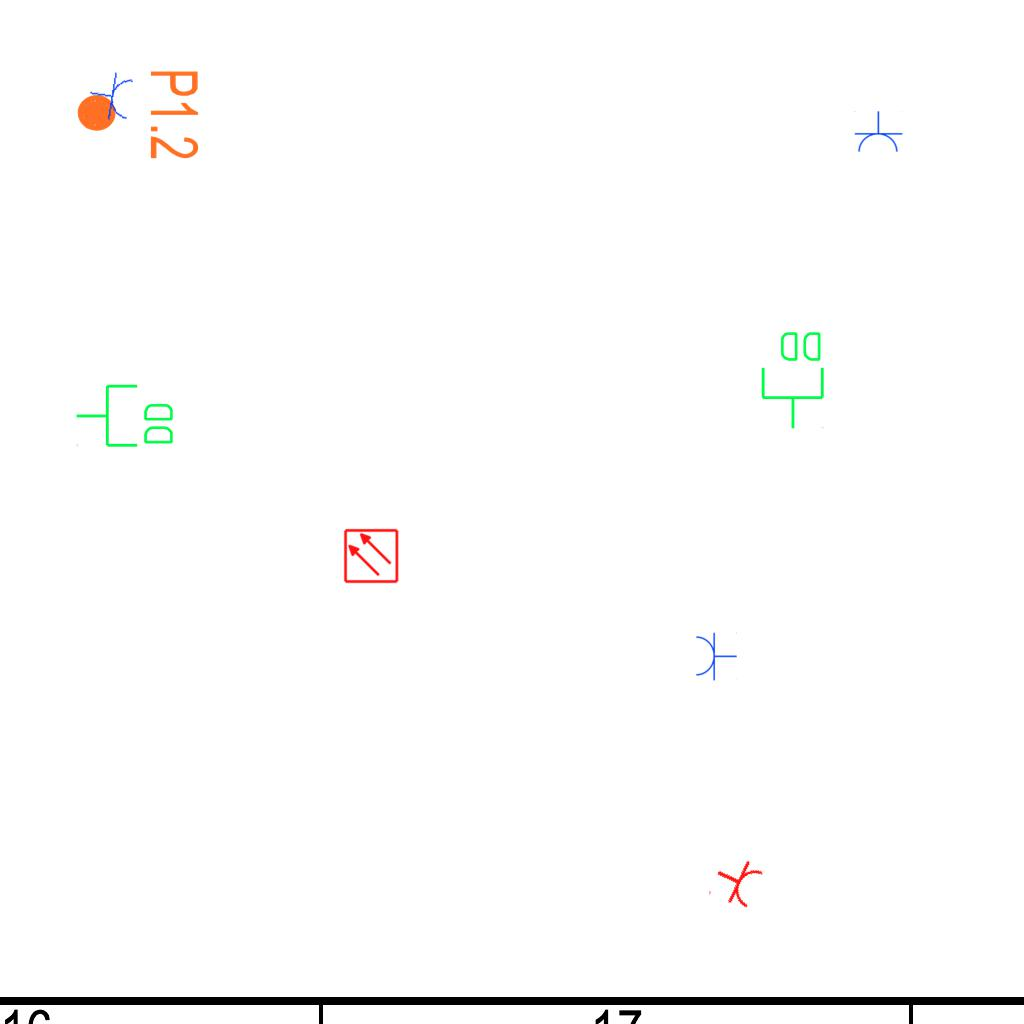Datenanschluss_zweifach: (759, 328, 828, 431), (74, 382, 177, 451)
Downlight_LED_Einbauleuchten_Flur: (74, 68, 202, 161)
RMO_Rauchmelder_optischer: (343, 528, 399, 584)
Schukosteckdose_einfach: (706, 850, 767, 914), (85, 68, 137, 125), (853, 111, 903, 154), (694, 631, 737, 681)
